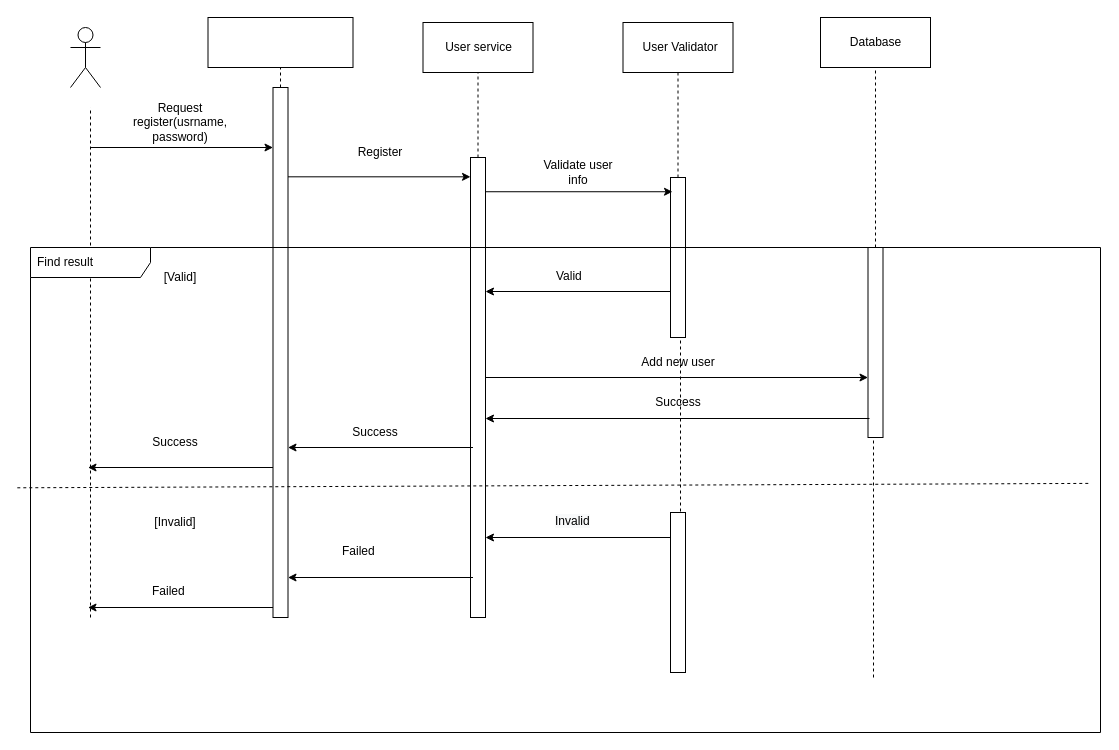
Some shapes in this 1119 by 750 pixel diagram are drawn without their labels. The shapes that lost their labels are listed below. From the top down, each one's box as (x1, y1, x2, y2) in pixels, then its label:
(70, 26, 100, 88): Admin/user
(207, 16, 353, 68): Authenticate controller
